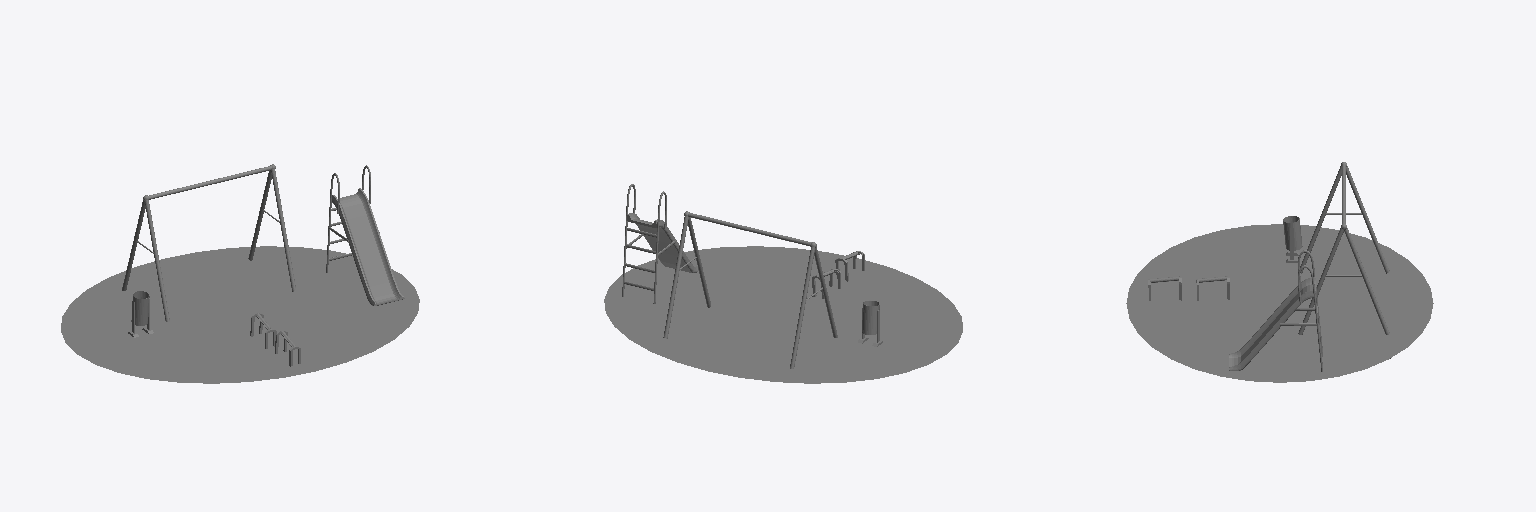
The model's file is AreaInfantil.obj.
The picture shows the model from 3 angles: view 1: azimuth 30°, elevation 25°; view 2: azimuth 150°, elevation 25°; view 3: azimuth 270°, elevation 25°; orthographic projection.
Visible parts, largest first — view 1: Cylinder, slide, Playground1, Basura; view 2: Cylinder, Playground1, slide, Basura; view 3: Cylinder, slide, Playground1, Basura.
Boxes of the visible parts, x1=… form: Cylinder: x1=61, y1=246, x2=419, y2=383; slide: x1=326, y1=165, x2=404, y2=305; Playground1: x1=122, y1=164, x2=295, y2=321; Basura: x1=128, y1=291, x2=153, y2=337; Cylinder: x1=604, y1=246, x2=962, y2=383; Playground1: x1=663, y1=211, x2=837, y2=368; slide: x1=622, y1=184, x2=698, y2=303; Basura: x1=858, y1=300, x2=882, y2=346; Cylinder: x1=1126, y1=224, x2=1433, y2=382; slide: x1=1229, y1=250, x2=1322, y2=371; Playground1: x1=1298, y1=162, x2=1390, y2=358; Basura: x1=1283, y1=216, x2=1302, y2=262.
Bounding box in the file's own units: 11.75 × 3.52 × 8.76.